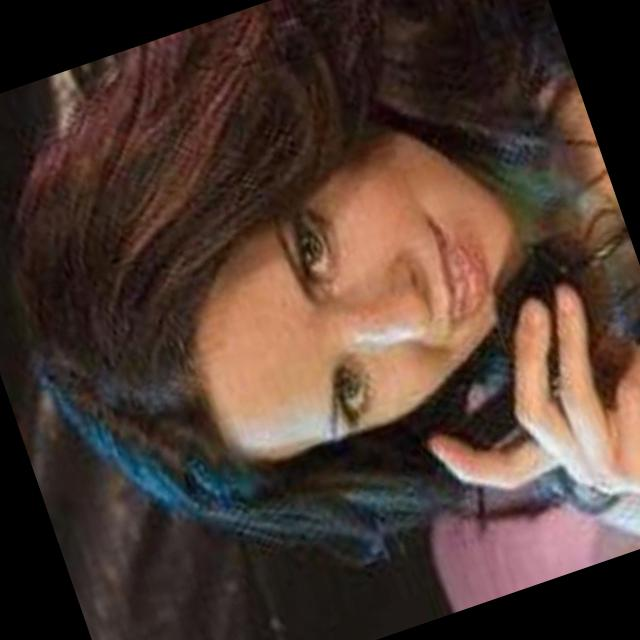bareface: (26, 54, 574, 542)
